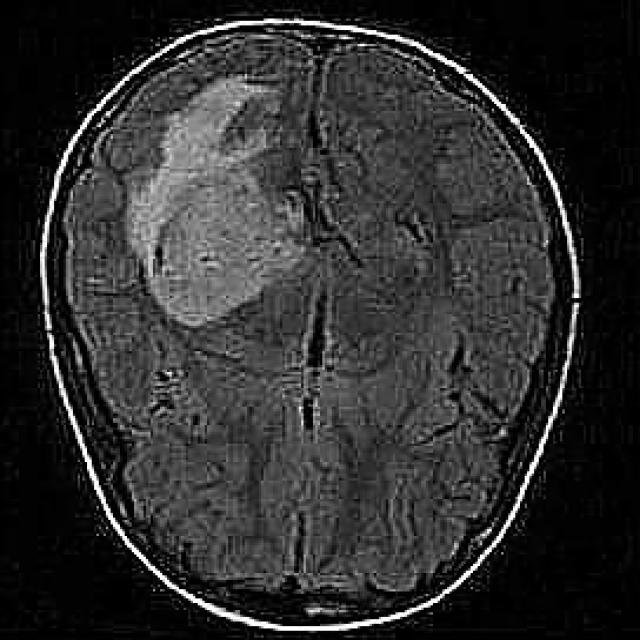Tumor-Cell: (134, 100, 311, 334)
